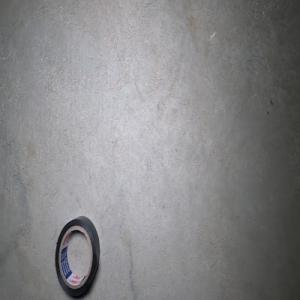Tape: (55, 215, 100, 298)
